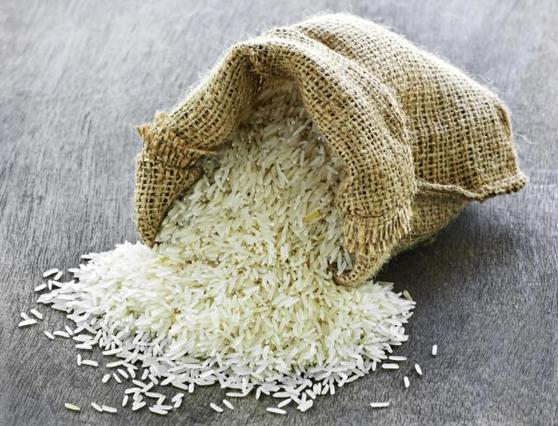rice: (112, 139, 398, 398)
